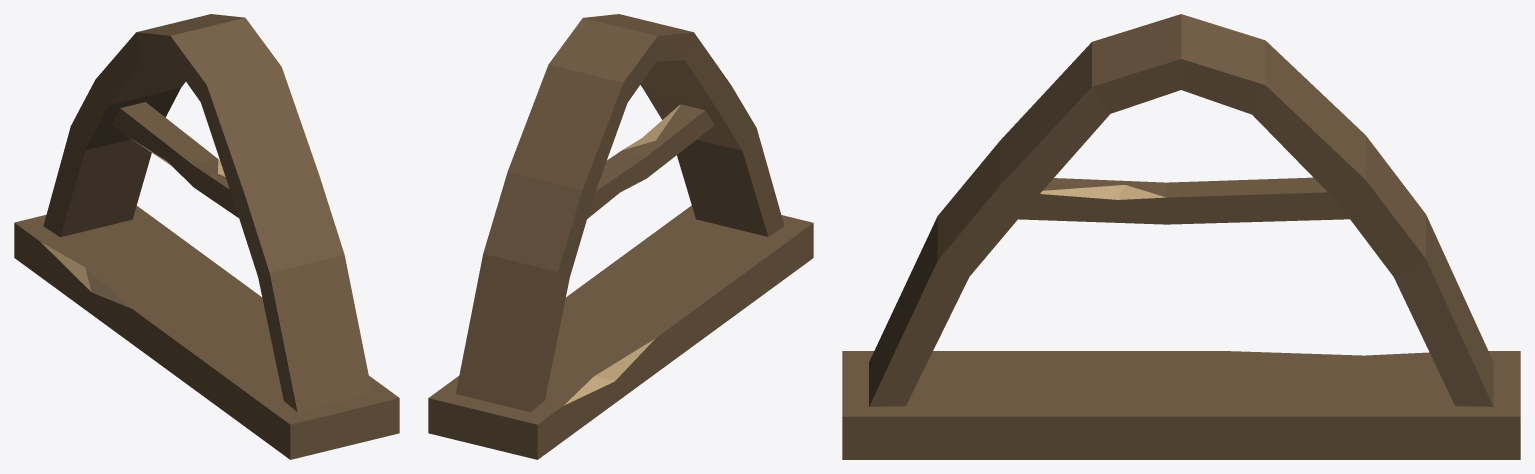
The model's file is rpgpp_ag_roof_02d_half_window_01c.fbx.
3 views of the same model, side by side, from view 1: azimuth 30°, elevation 25°; view 2: azimuth 150°, elevation 25°; view 3: azimuth 270°, elevation 25° (orthographic). The views are drawn at different scales.
Visible parts, largest first — view 1: rpgpp_ag_roof_02d_half_window_01c; view 2: rpgpp_ag_roof_02d_half_window_01c; view 3: rpgpp_ag_roof_02d_half_window_01c.
Boxes of the visible parts, x1,y1,x2,y2 form: rpgpp_ag_roof_02d_half_window_01c: (14,14,399,459); rpgpp_ag_roof_02d_half_window_01c: (428,14,813,459); rpgpp_ag_roof_02d_half_window_01c: (842,14,1520,459).
Bounding box in the file's own units: 0.4966 × 1.38 × 2.17.
